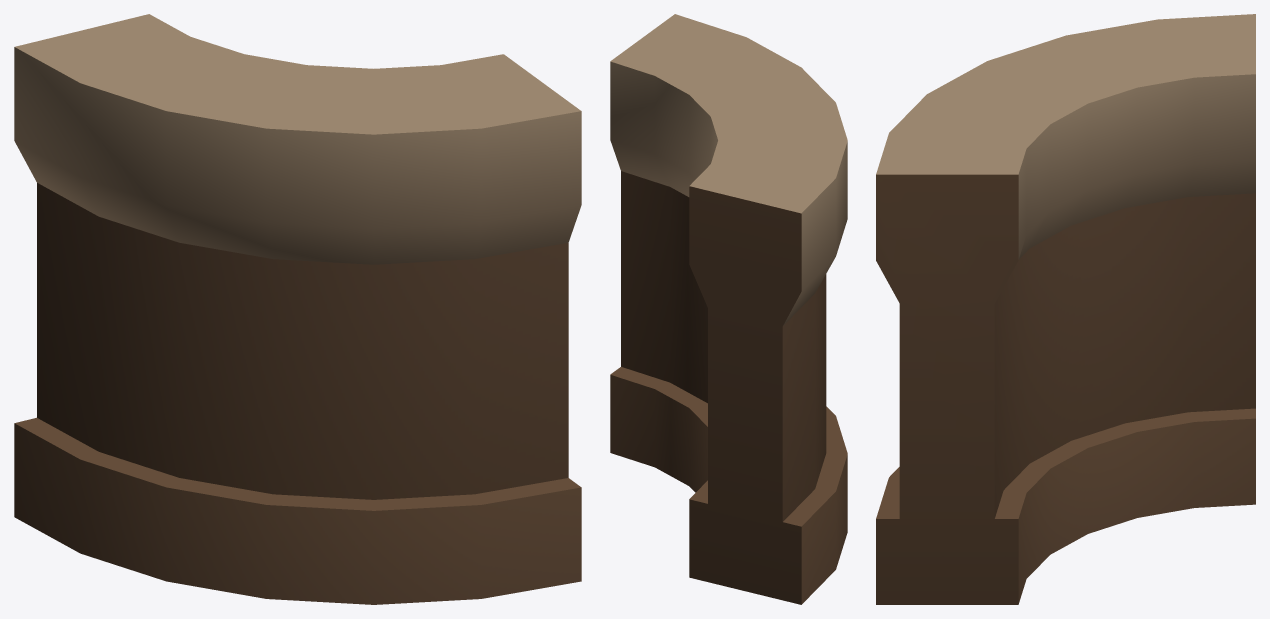
Rendered from wall-corner-round.glb.
The picture shows the model from 3 angles, left to right: view 1: azimuth 30°, elevation 25°; view 2: azimuth 150°, elevation 25°; view 3: azimuth 270°, elevation 25°; orthographic projection. The views are drawn at different scales.
Visible parts, largest first — view 1: wall-corner-round; view 2: wall-corner-round; view 3: wall-corner-round.
Boxes of the visible parts, x1,y1,x2,y2 form: wall-corner-round: (14,14,581,604); wall-corner-round: (610,14,847,604); wall-corner-round: (876,14,1255,604).
Bounding box in the file's own units: 0.8 × 1 × 0.8.
